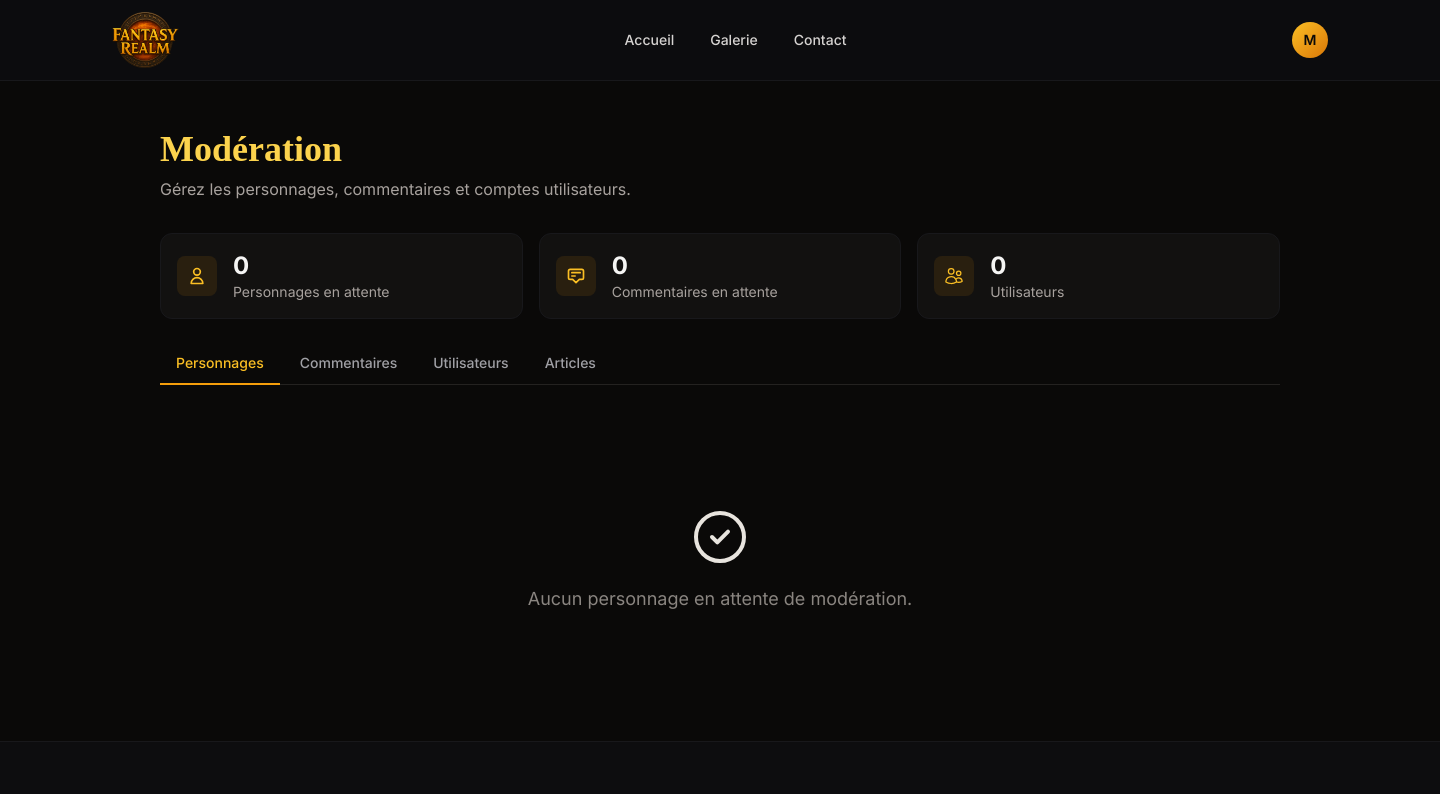
Test: ModerationPage › comments tab › should show empty message when no pending comments
Step 1. Click the tab "Commentaires" → click(349, 364), box 284,343 -> 413,385
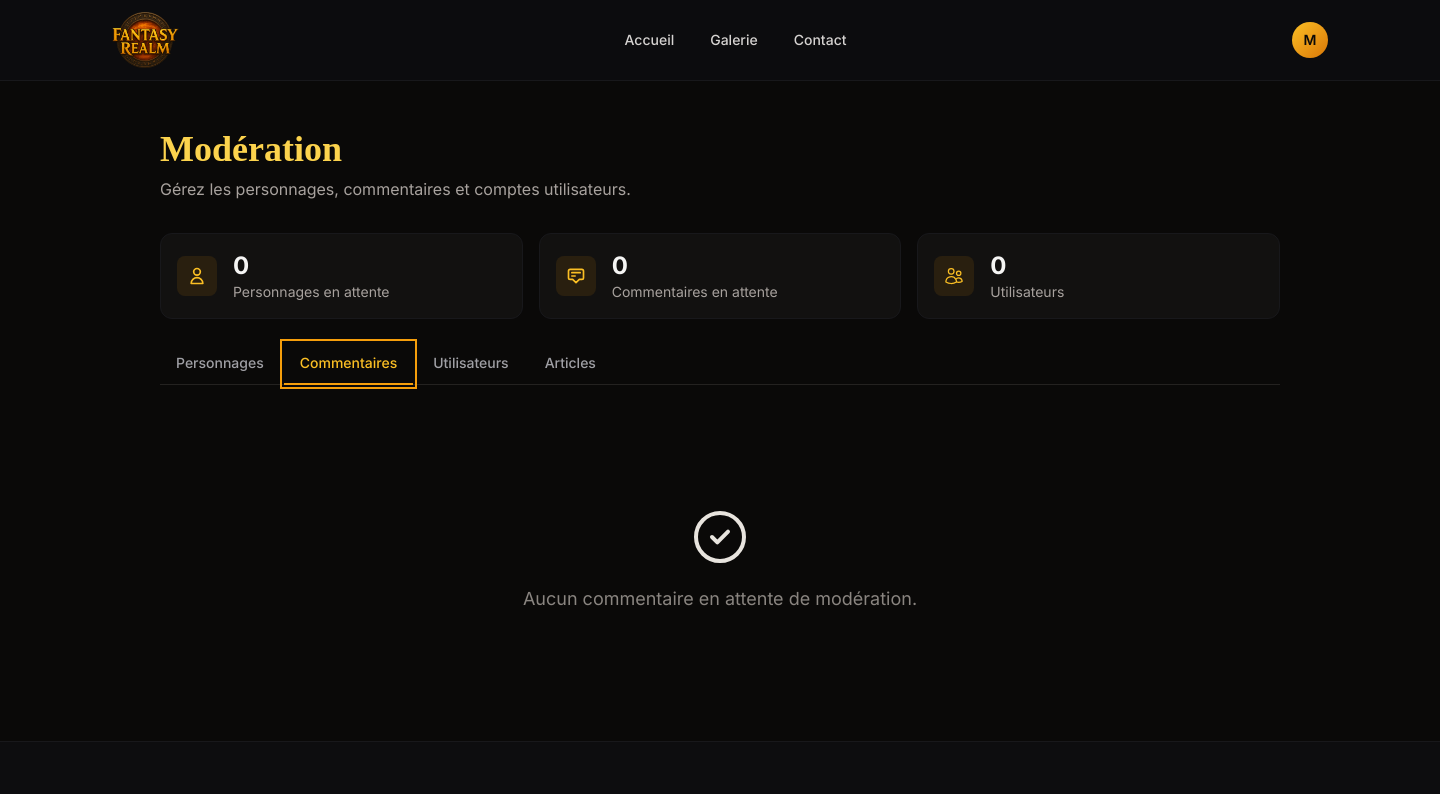
Now the text "Aucun commentaire en attente de modération." is shown, box 523,588 -> 917,609
